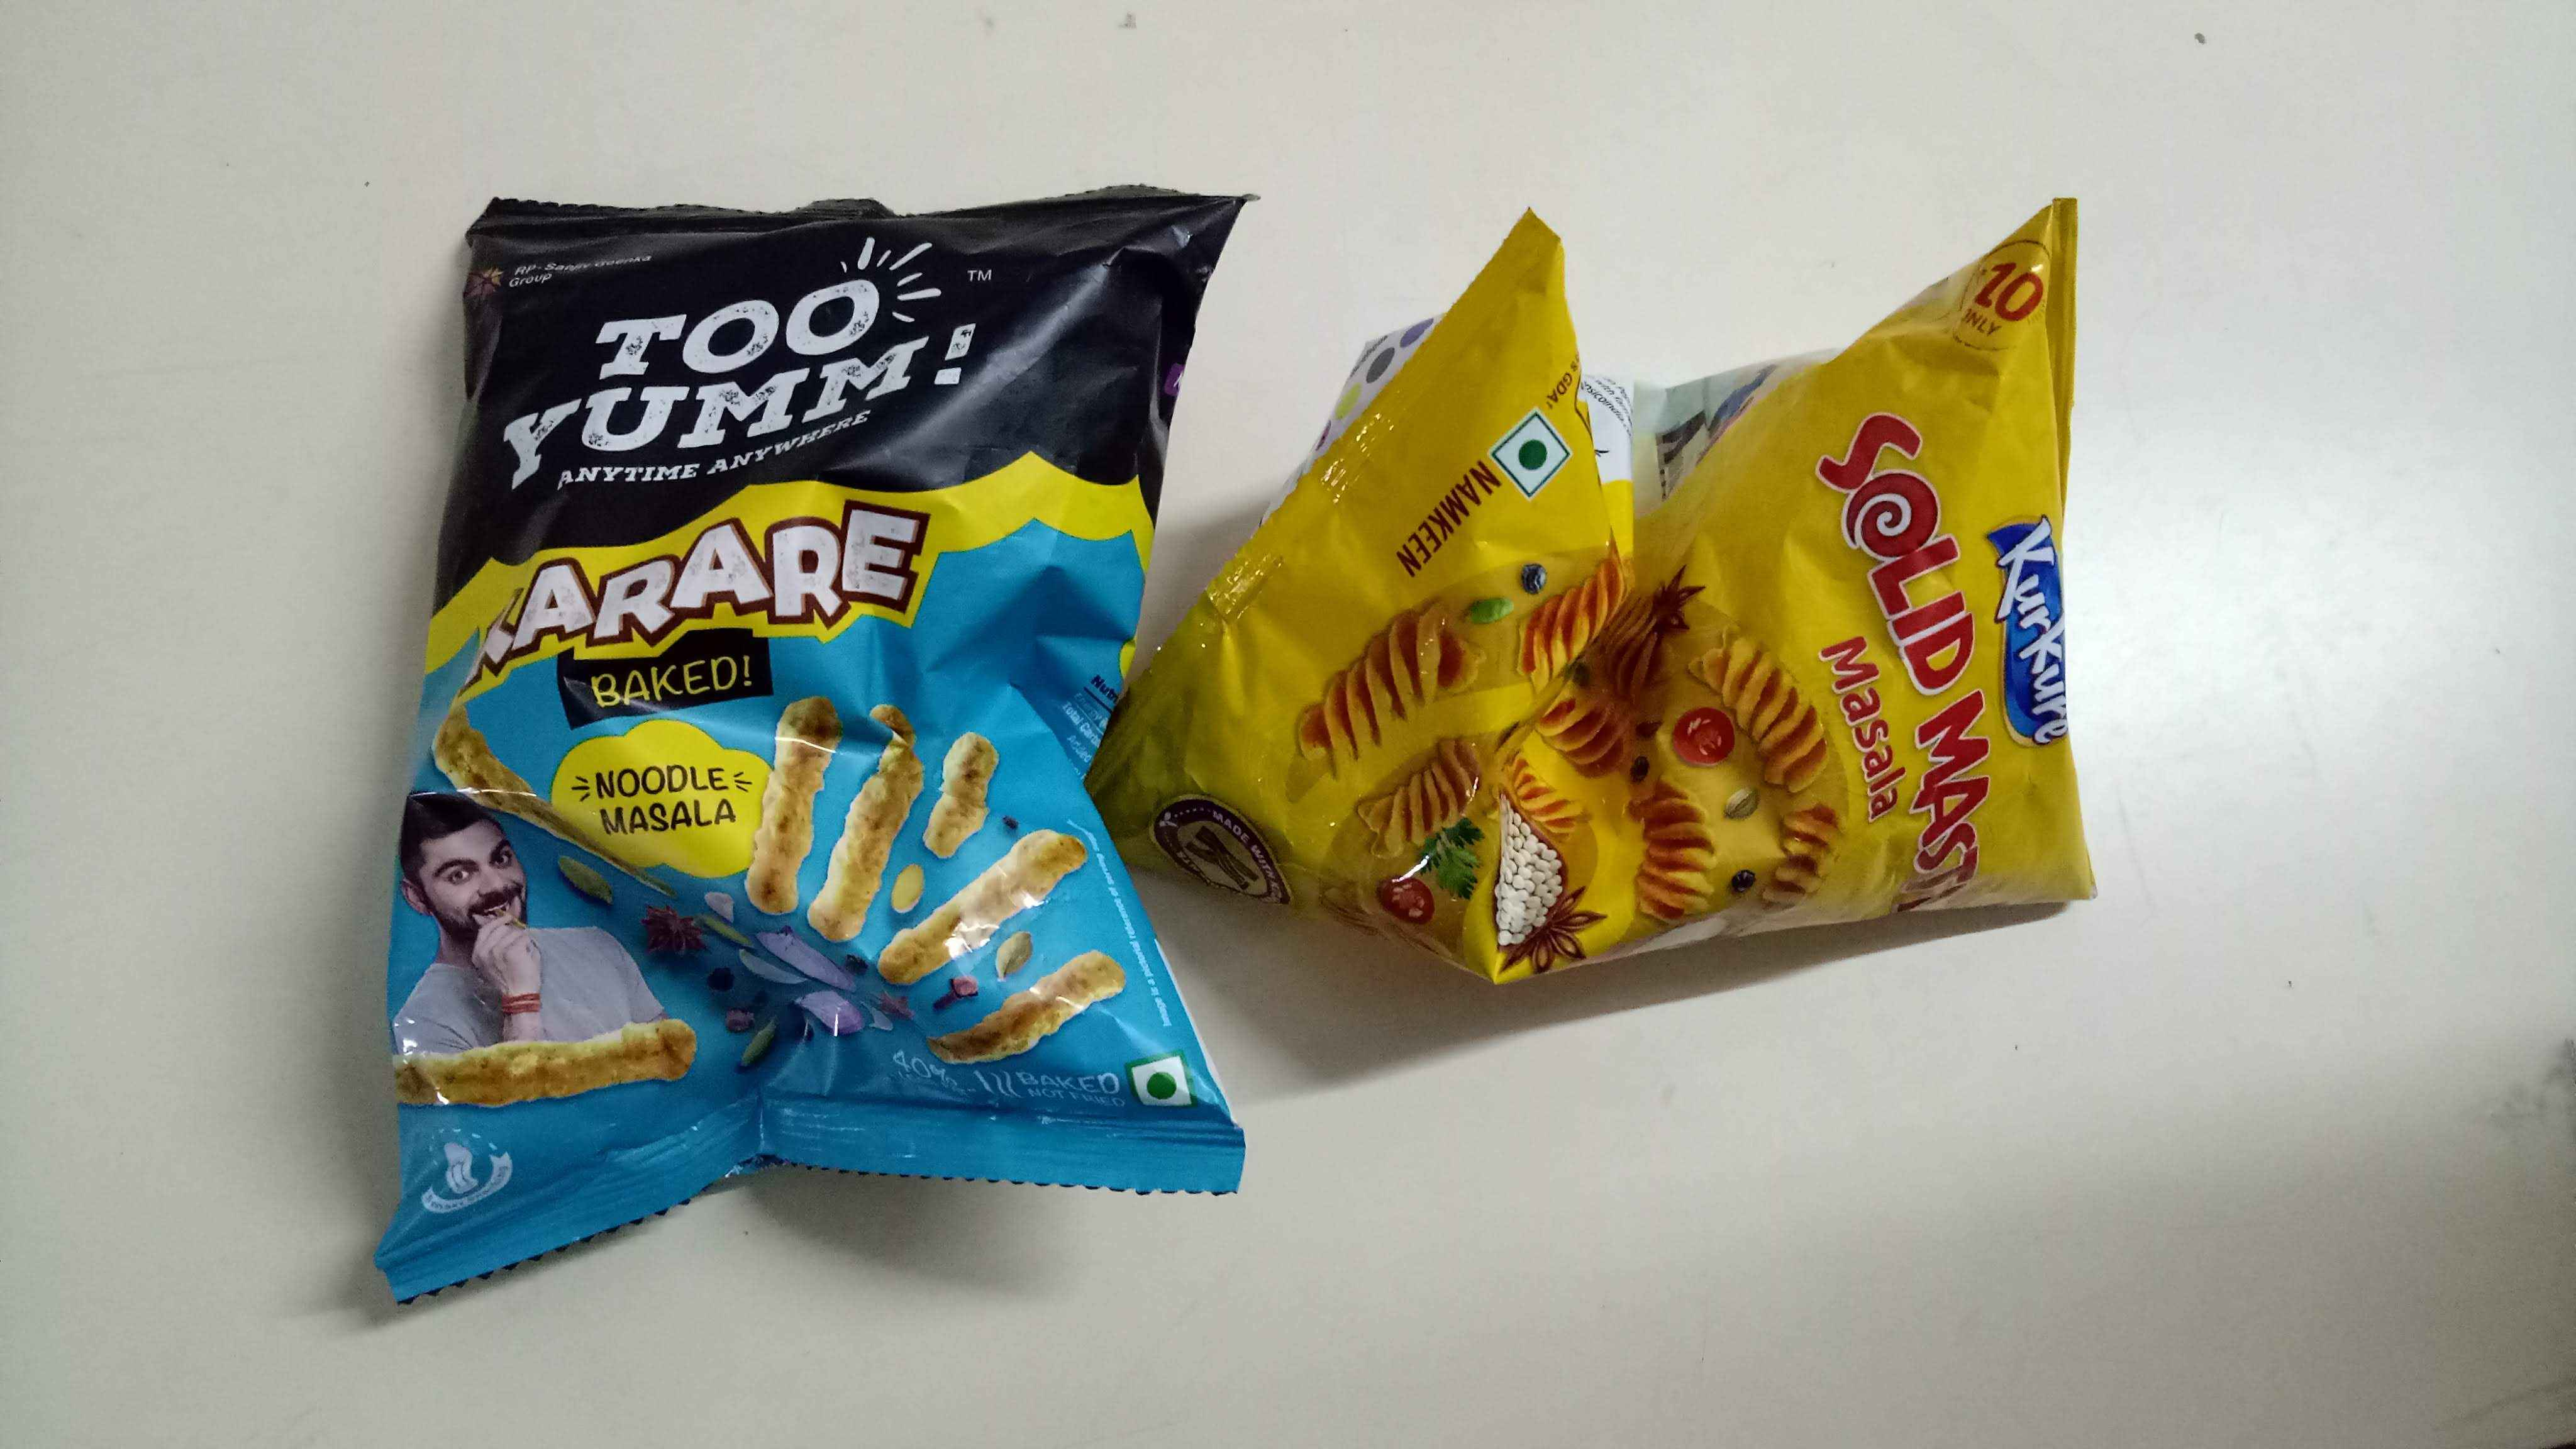kurkure: (1962, 490, 2079, 771)
tooyumm: (488, 262, 993, 529)
